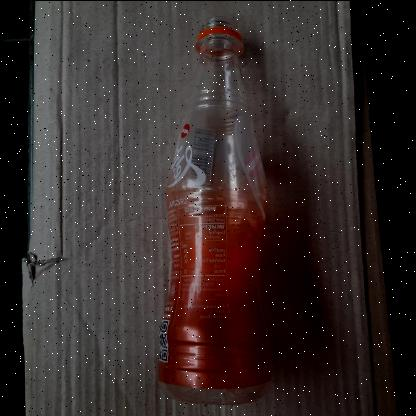Plastic Bottle: (158, 12, 272, 404)
